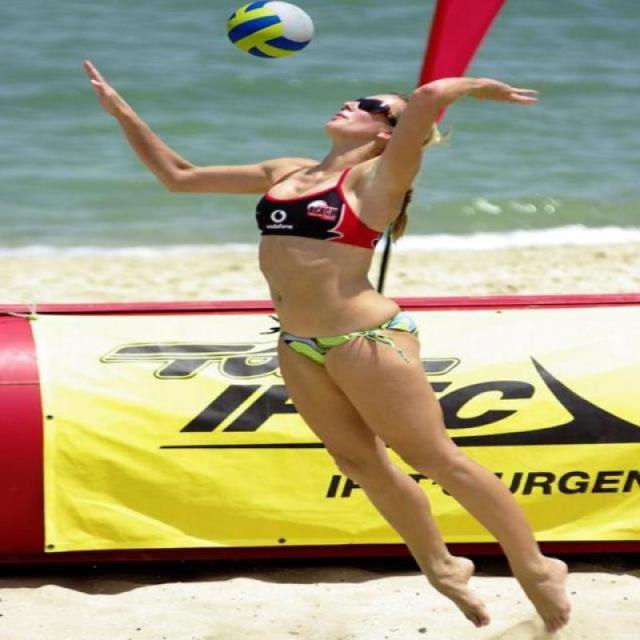volleyball: (224, 0, 318, 58)
